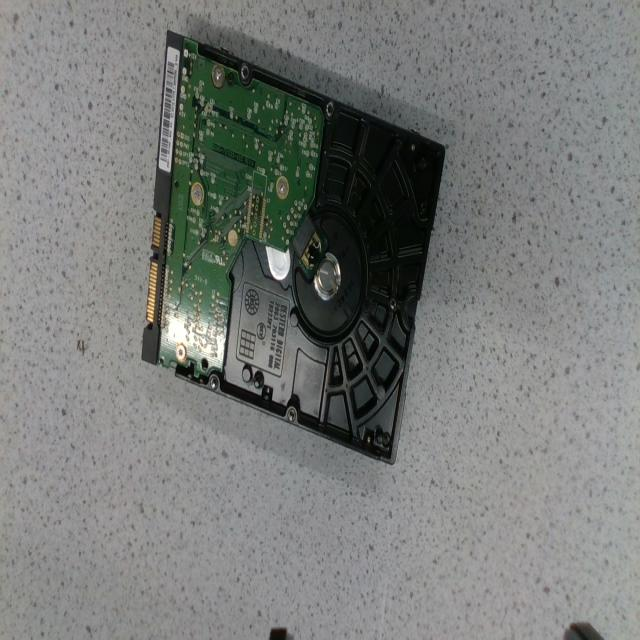case: (148, 33, 444, 462)
pcb: (156, 41, 326, 378)
screw: (190, 182, 202, 205), (276, 176, 288, 199), (212, 65, 224, 87), (176, 342, 186, 363)
